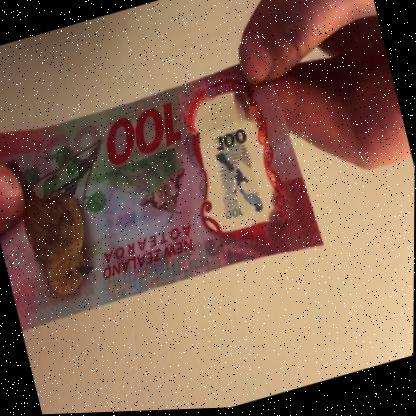100B: (201, 112, 270, 229)
